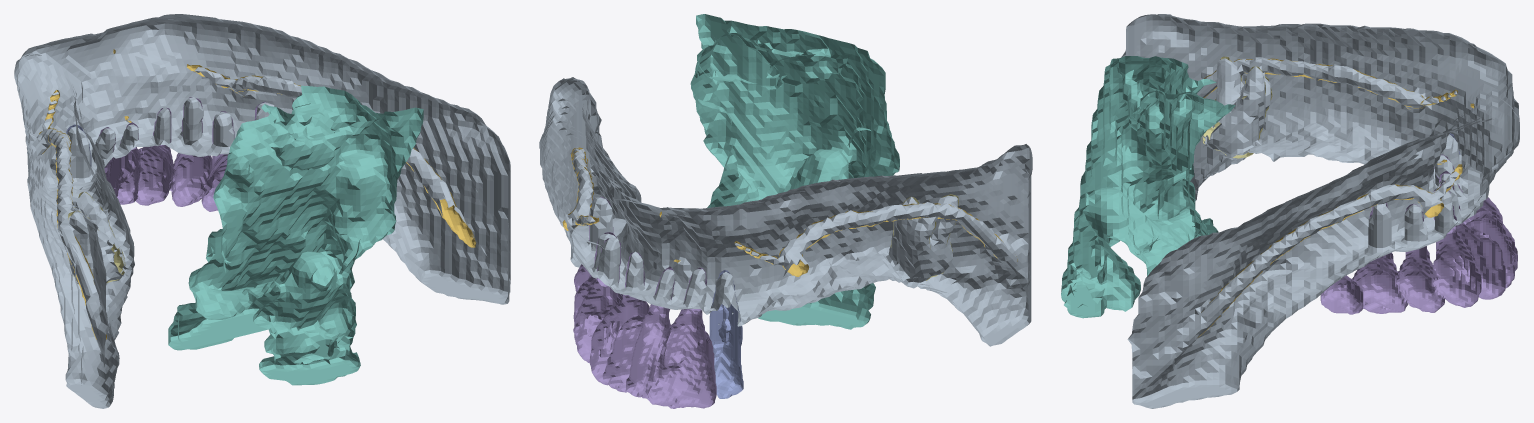
The model's file is ToothFairy3S_0000.glb.
The picture shows the model from 3 angles, left to right: view 1: azimuth 30°, elevation 25°; view 2: azimuth 150°, elevation 25°; view 3: azimuth 270°, elevation 25°; orthographic projection. The views are drawn at different scales.
Parts seen in each view (by area): view 1: jaws__1, other__7, restorations__9, canals__3, restorations__8; view 2: jaws__1, other__7, restorations__9, teeth__43, restorations__8, canals__4, restorations__10; view 3: jaws__1, other__7, restorations__9, restorations__8, canals__3.
Boxes of the visible parts, x1,y1,x2,y2 form: jaws__1: (14, 14, 510, 408); other__7: (168, 85, 423, 385); restorations__9: (104, 145, 228, 211); canals__3: (230, 75, 476, 247); restorations__8: (117, 148, 142, 204); jaws__1: (539, 77, 1032, 346); other__7: (690, 14, 899, 329); restorations__9: (573, 264, 716, 408); teeth__43: (709, 270, 743, 398); restorations__8: (602, 315, 644, 392); canals__4: (779, 203, 1017, 276); restorations__10: (589, 196, 706, 311); jaws__1: (1121, 14, 1519, 408); other__7: (1061, 56, 1235, 318); restorations__9: (1352, 197, 1517, 313); restorations__8: (1320, 219, 1514, 314); canals__3: (1197, 184, 1443, 337).
Bounding box in the file's own units: 102 × 48.7 × 90.79.
